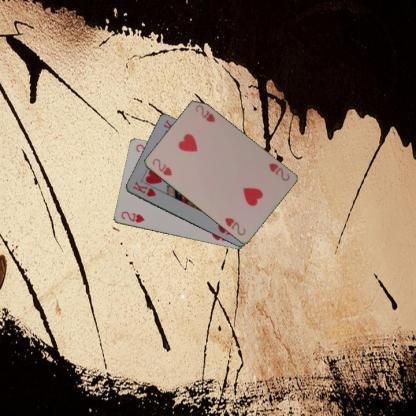2h: (266, 160, 290, 182), (150, 155, 172, 177), (118, 208, 146, 224)
Kh: (130, 178, 157, 198)
